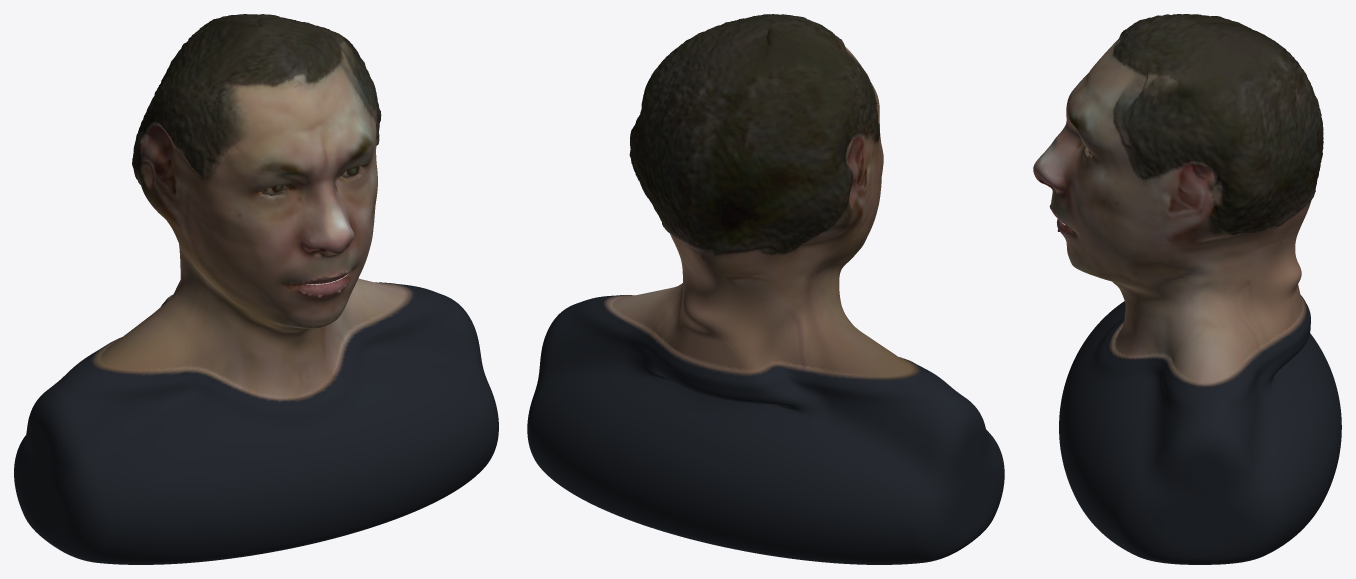
Rendered from sam_take4.glb.
The picture shows the model from 3 angles, left to right: view 1: azimuth 30°, elevation 25°; view 2: azimuth 150°, elevation 25°; view 3: azimuth 270°, elevation 25°; orthographic projection. The views are drawn at different scales.
Parts seen in each view (by area): view 1: head; view 2: head; view 3: head.
Boxes of the visible parts, bbox=[...] form: head: bbox=[14, 14, 498, 564]; head: bbox=[527, 14, 1004, 564]; head: bbox=[1033, 14, 1341, 564].
Size of the model in its own units: 0.355 by 0.3788 by 0.2346.
